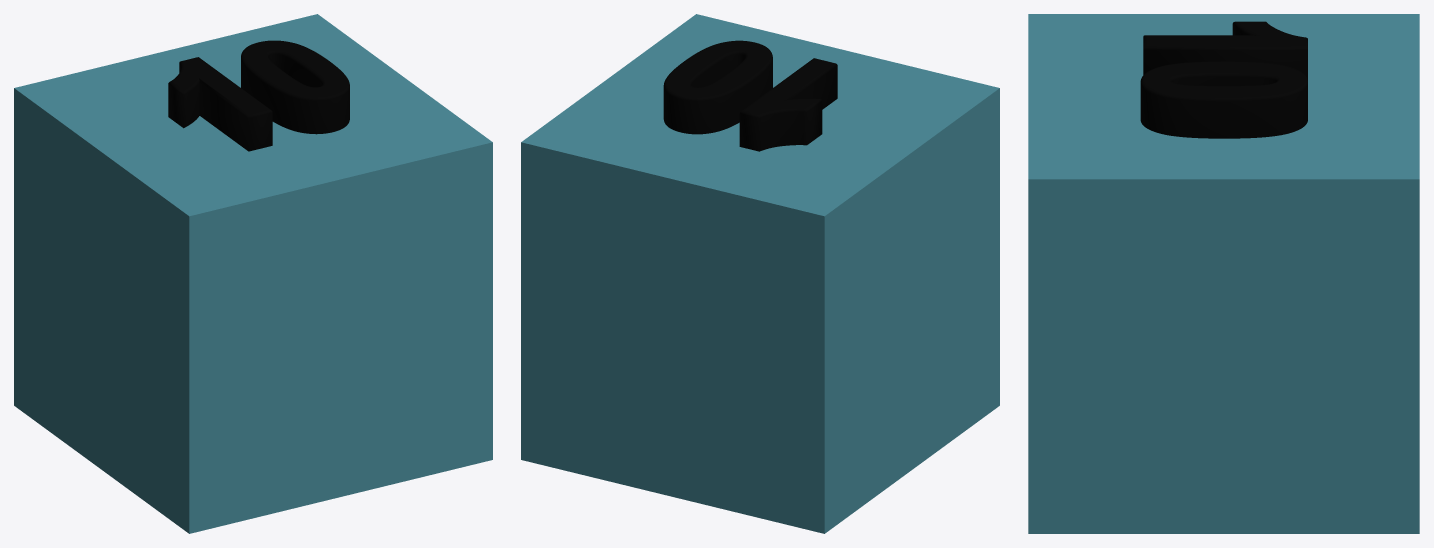
Rendered from level10.fbx.
3 renders of one model, left to right at view 1: azimuth 30°, elevation 25°; view 2: azimuth 150°, elevation 25°; view 3: azimuth 270°, elevation 25°, orthographic. The views are drawn at different scales.
Parts seen in each view (by area): view 1: Text; view 2: Text; view 3: Text.
Boxes of the visible parts, x1,y1,x2,y2 form: Text: (14,14,492,533); Text: (521,14,999,533); Text: (1028,14,1419,533).
Bounding box in the file's own units: 200 × 223 × 200.
